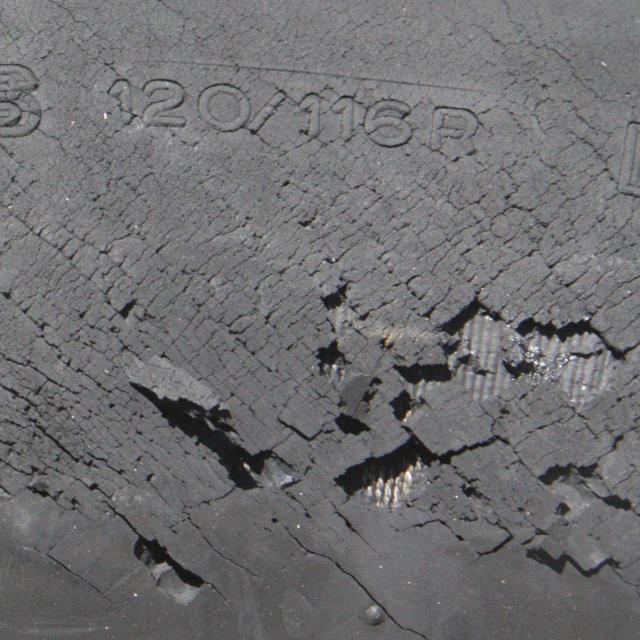Cracks: (0, 0, 640, 640), (639, 639, 640, 640)
